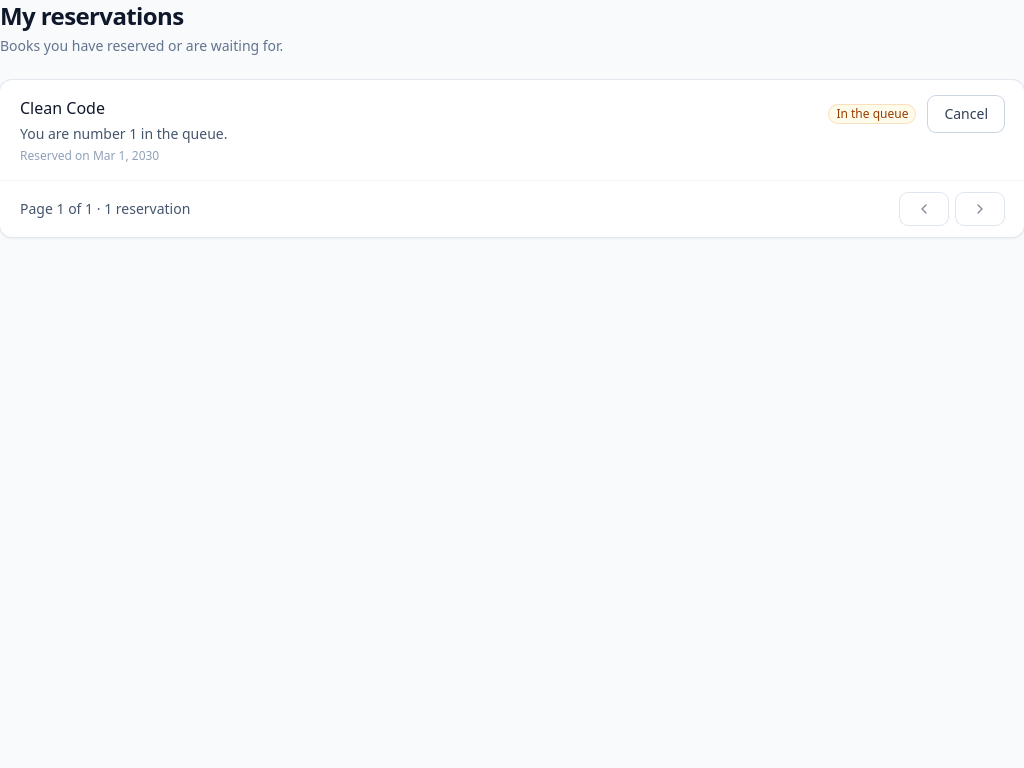
Test: MyReservationsPage › asks for confirmation, then cancels and refreshes the list
Click the button with aria-label "Cancel reservation for Clean Code": click(966, 114) [928,96,1004,132]
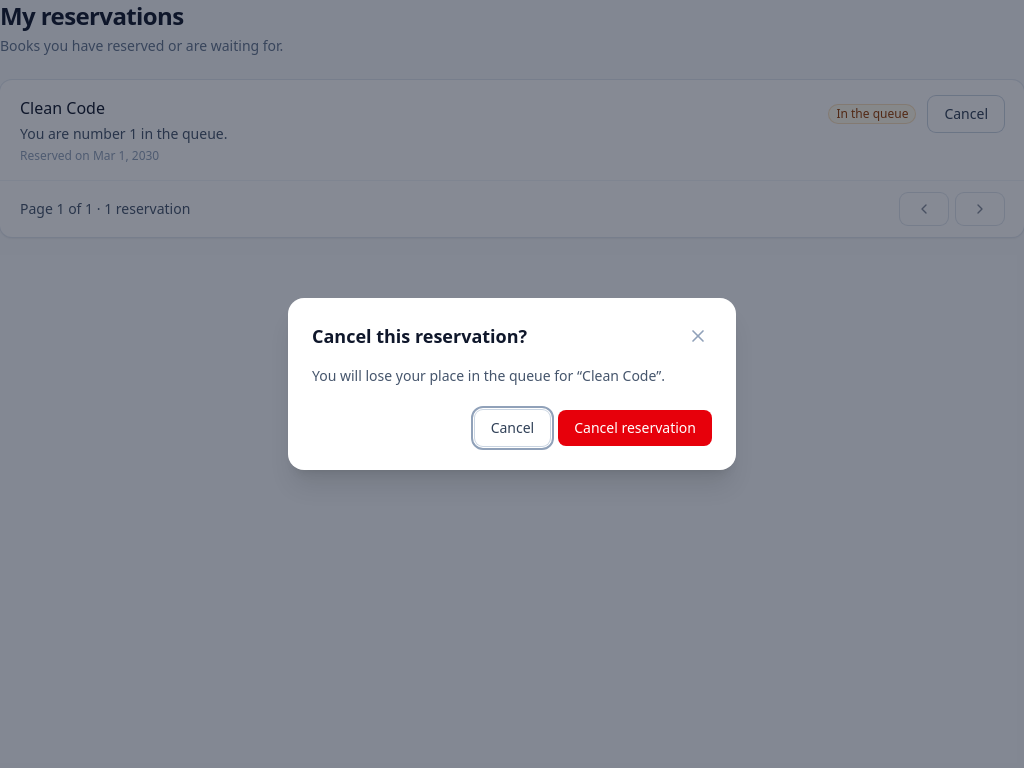
Result: the text "You will lose your place in the queue for “Clean Code”." is shown at [312,366,712,386]
Click the button "Cancel reservation": click(635, 428) [558,410,712,446]
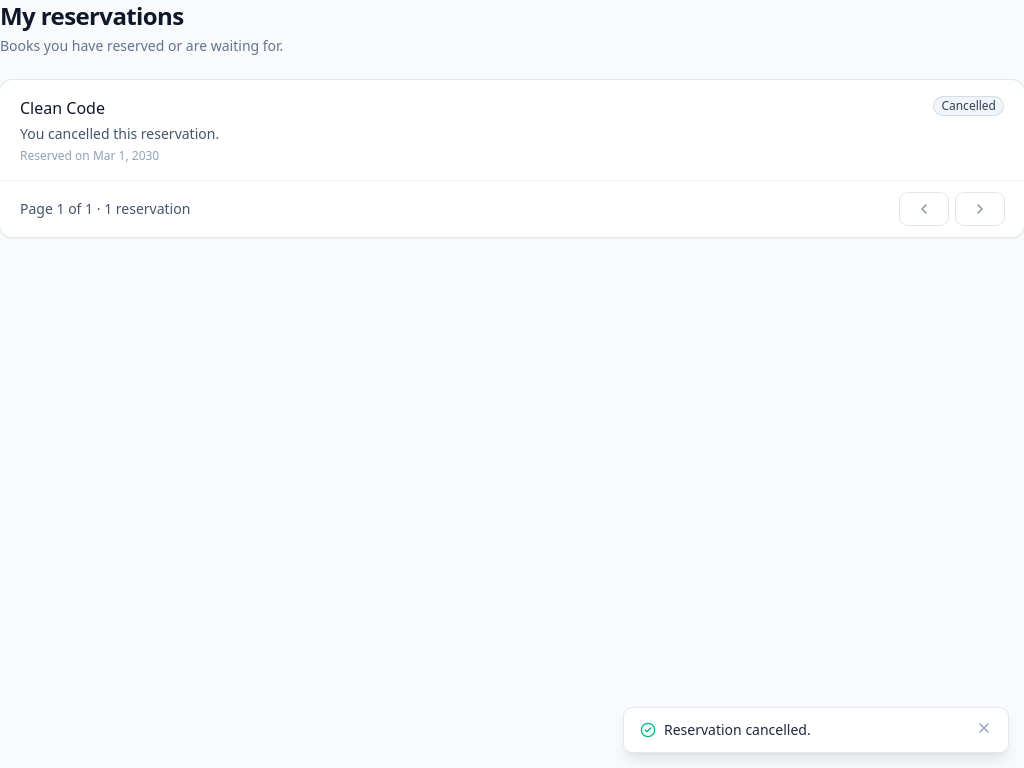
Result: the text "Reservation cancelled." is shown at [664,720,811,739]
Result: the dialog is gone
Result: the text "You cancelled this reservation." is shown at [20,124,219,144]
